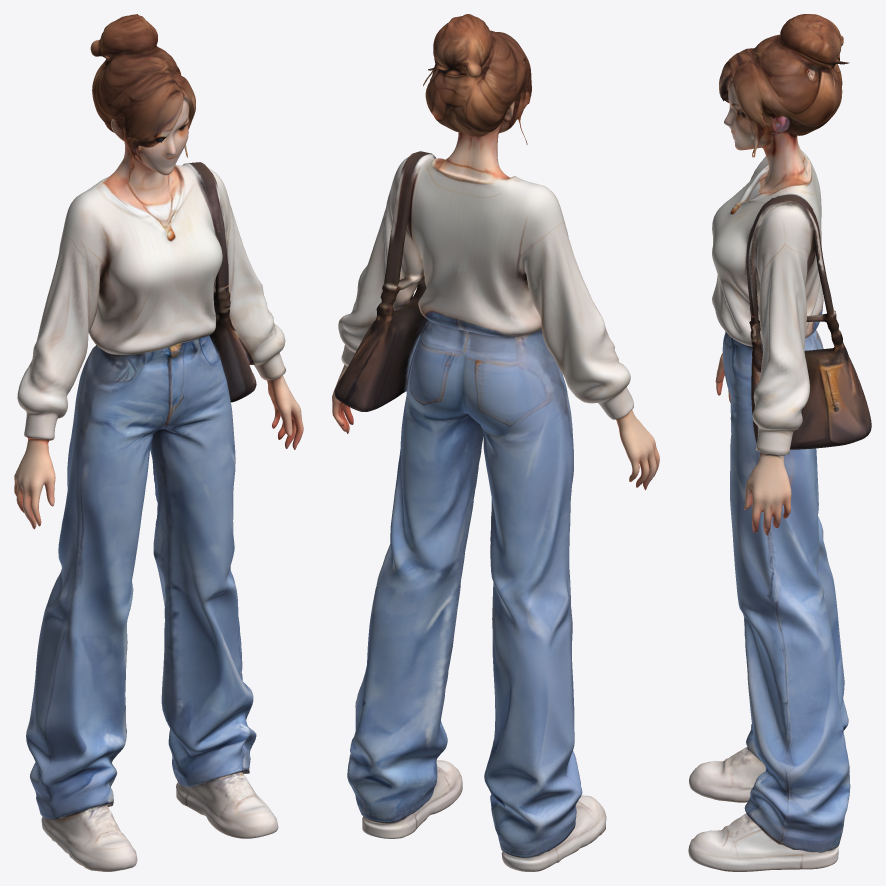
The model's file is model-2-matte.glb.
The picture shows the model from 3 angles, left to right: view 1: azimuth 30°, elevation 25°; view 2: azimuth 150°, elevation 25°; view 3: azimuth 270°, elevation 25°; orthographic projection. The views are drawn at different scales.
Visible parts, largest first — view 1: model; view 2: model; view 3: model.
Boxes of the visible parts, x1,y1,x2,y2 form: model: (14, 14, 303, 871); model: (332, 14, 659, 871); model: (688, 14, 871, 871).
Size of the model in its own units: 0.6847 by 1.8 by 0.3686.
Materials: 1 (1 with a texture image).
